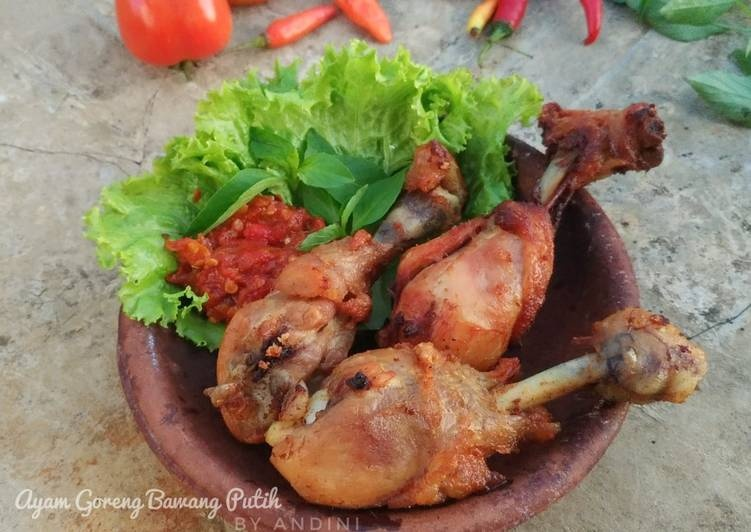ayam_goreng: (263, 307, 711, 515)
